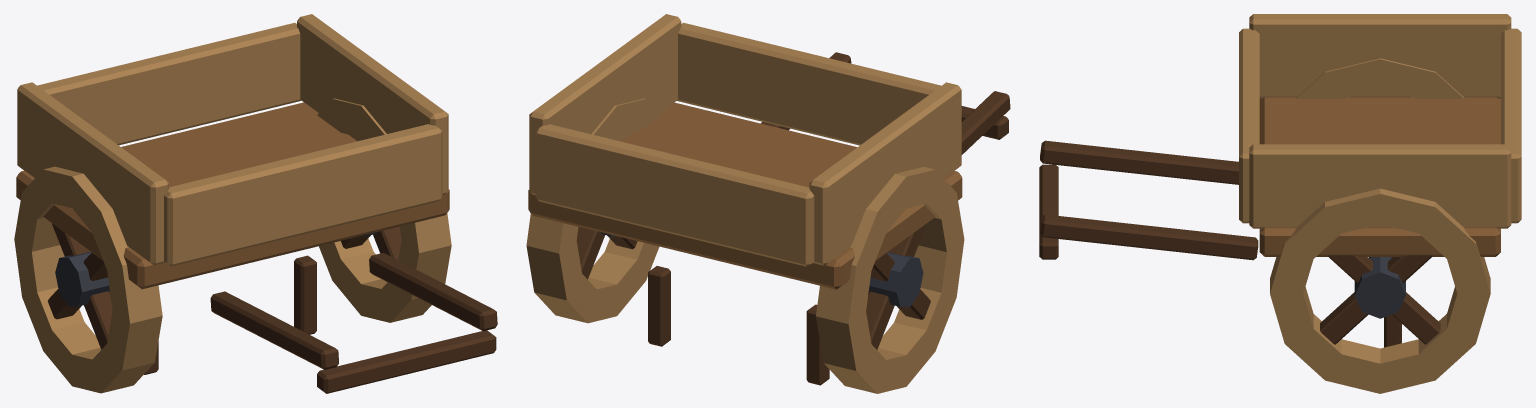
The model's file is cart.fbx.
The picture shows the model from 3 angles, left to right: view 1: azimuth 30°, elevation 25°; view 2: azimuth 150°, elevation 25°; view 3: azimuth 270°, elevation 25°; orthographic projection. The views are drawn at different scales.
Visible parts, largest first — view 1: cart; view 2: cart; view 3: cart.
Part boxes in pixels (x1=…): cart: x1=14, y1=14, x2=497, y2=393; cart: x1=526, y1=14, x2=1010, y2=393; cart: x1=1039, y1=14, x2=1521, y2=393.
Size of the model in its own units: 141 by 106 by 188.
